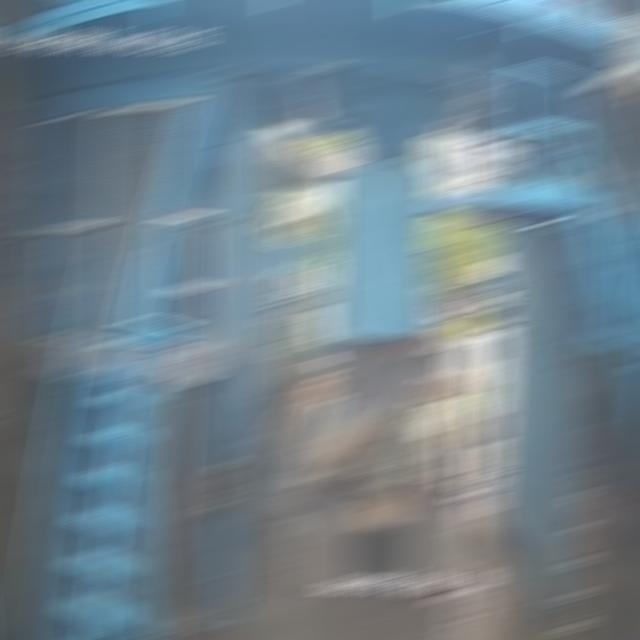cement_mixer_truck: (294, 249, 468, 604)
